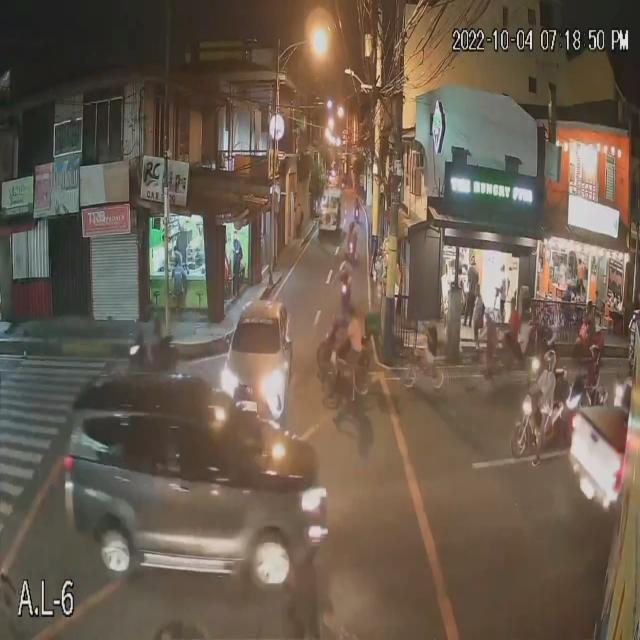Full-Faced: (538, 348, 559, 375)
Half-Faced: (586, 341, 600, 366)
